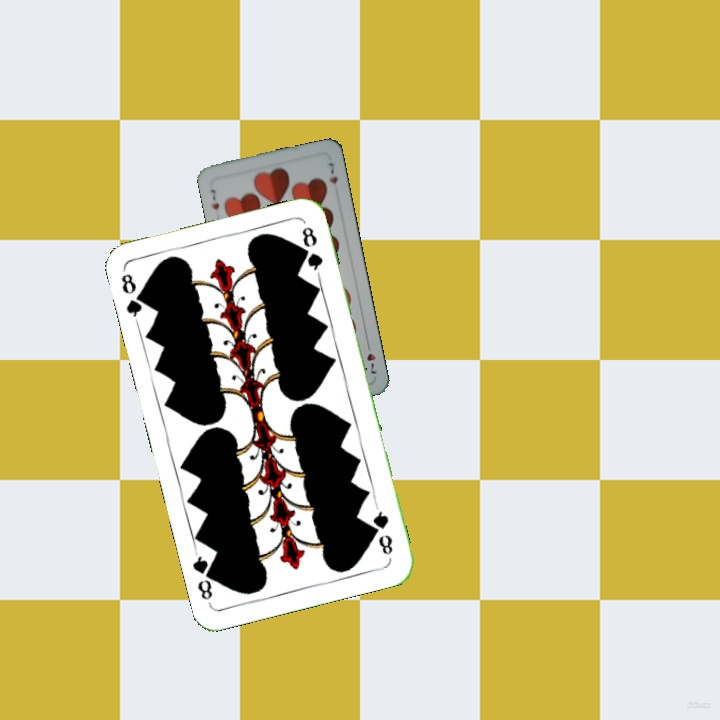G8: (117, 267, 150, 325), (369, 502, 396, 558)
H7: (363, 338, 380, 376), (205, 185, 222, 212)
